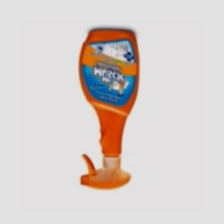cleaning_solution: (74, 26, 140, 193)
